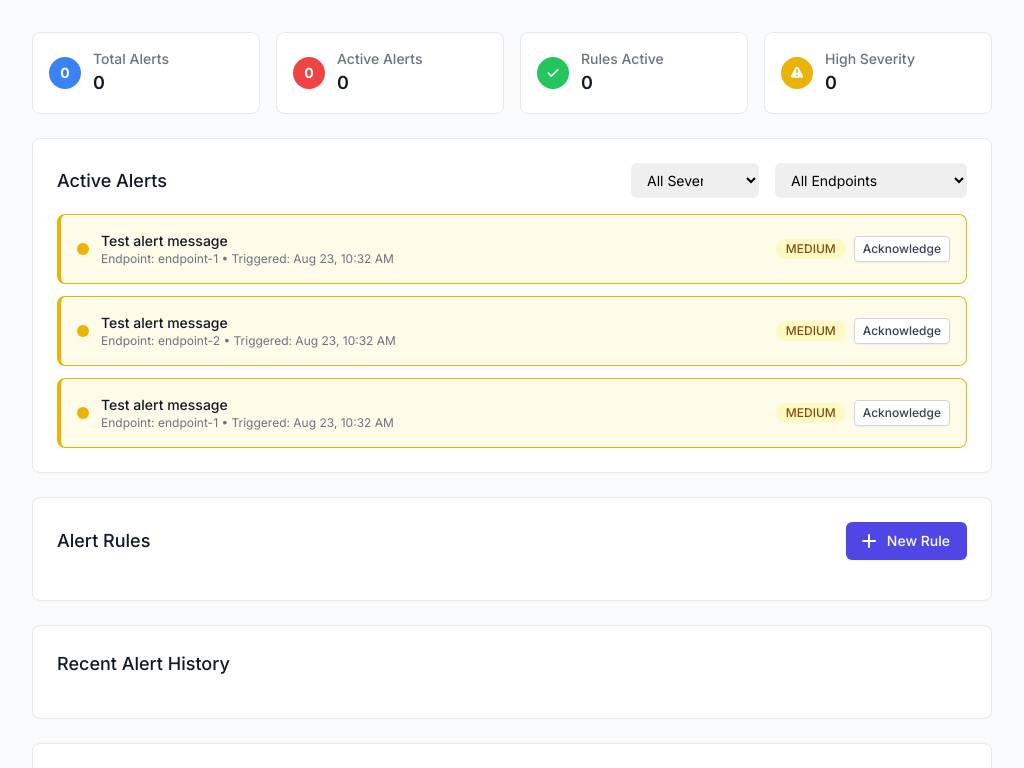
AlertDashboard › Alert Actions › should filter alerts by endpoint
The image size is (1024, 768).
Select "endpoint-1" in the dropdown with test id "endpoint-filter" at point(871, 180), box [775,163,967,198]
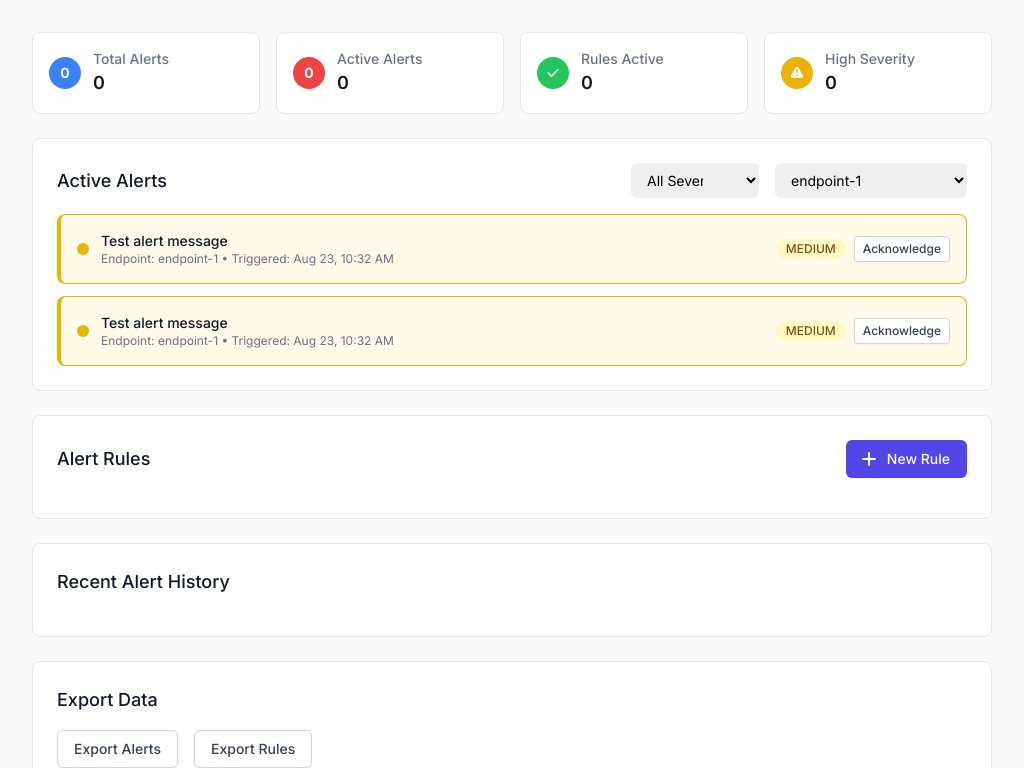
Check: the number of elements with test id "alert-item" is 2, box [57,214,967,284]; [57,296,967,366]
